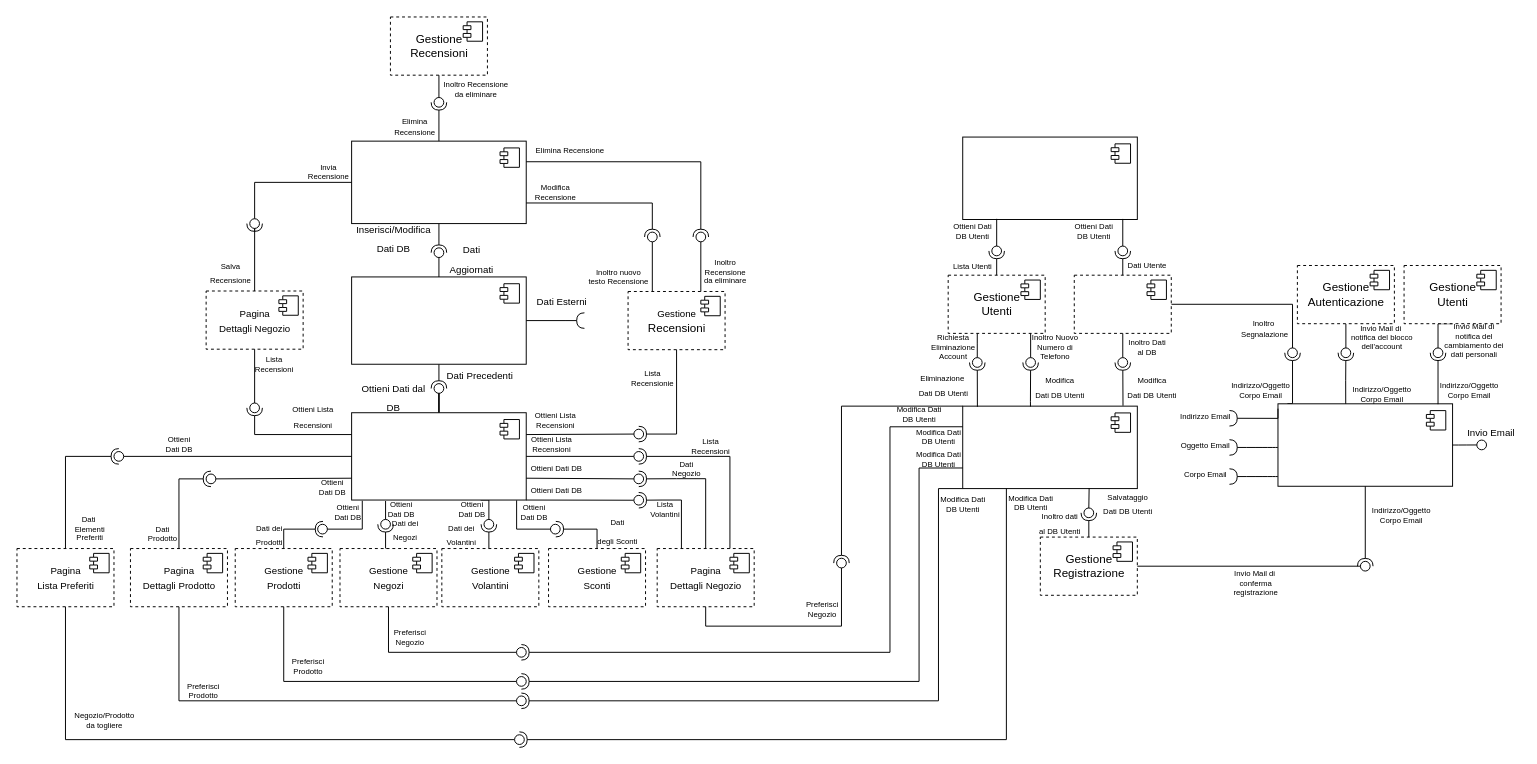
Image size: 1537x764. Some labels were removed from this diagram. The box of each missing label's shape, as (x1, y1, x2, y2) in pixels:
Aggiornamento Sito: (351, 276, 526, 364)
Gestione Pagina Utente: (1073, 274, 1171, 333)
Interfaccia Gmail: (1277, 403, 1453, 486)
LetturaDBDati: (351, 412, 526, 500)
LetturaDBUtenti: (962, 136, 1137, 220)
ScritturaDBDati: (351, 140, 526, 224)
ScritturaDBUtenti: (962, 405, 1137, 489)
